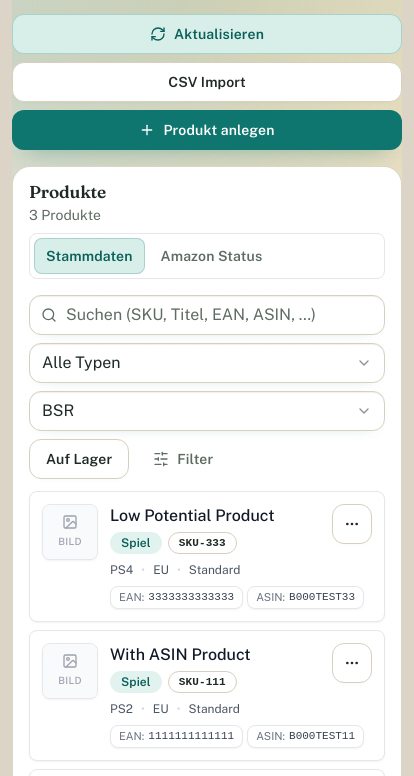
Test: hides EAN chips in Amazon mode and shows BSR/price target cues
Expected: the 1st text "EAN:" is shown, [119,589,144,606]
Click the button "Amazon Status" at (211, 256), box [148,238,274,274]
(page scrolled)
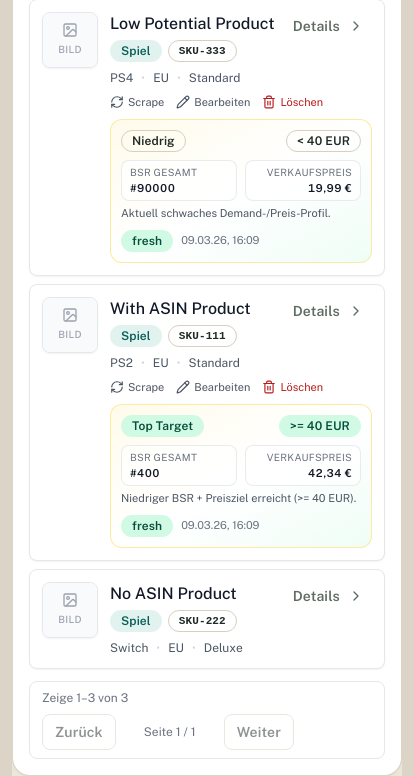
Result: the 1st text "Verkaufspreis" is shown at [254,165,352,180]
Result: the text ">= 40 EUR" is shown at [279,415,361,437]
Result: no buttons "EAN:" are shown
